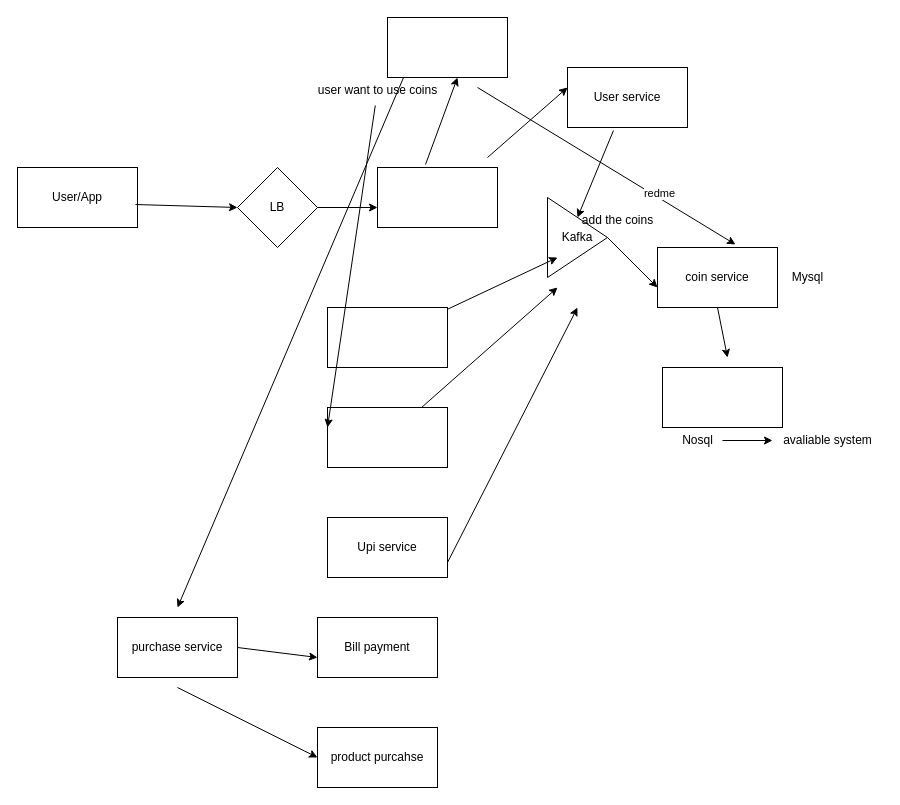
This 900x805 diagram has some shape labels left out. The shapes that lost their labels are listed below. From the top down, each one's box as (x1, y1, x2, y2) in pixels, then its label:
(386, 16, 508, 78): orde service
(376, 166, 498, 228): Aggerator/Gateway Service
(326, 306, 448, 368): Loan service
(662, 366, 782, 428): coin audit ervice
(326, 406, 448, 468): gold service
